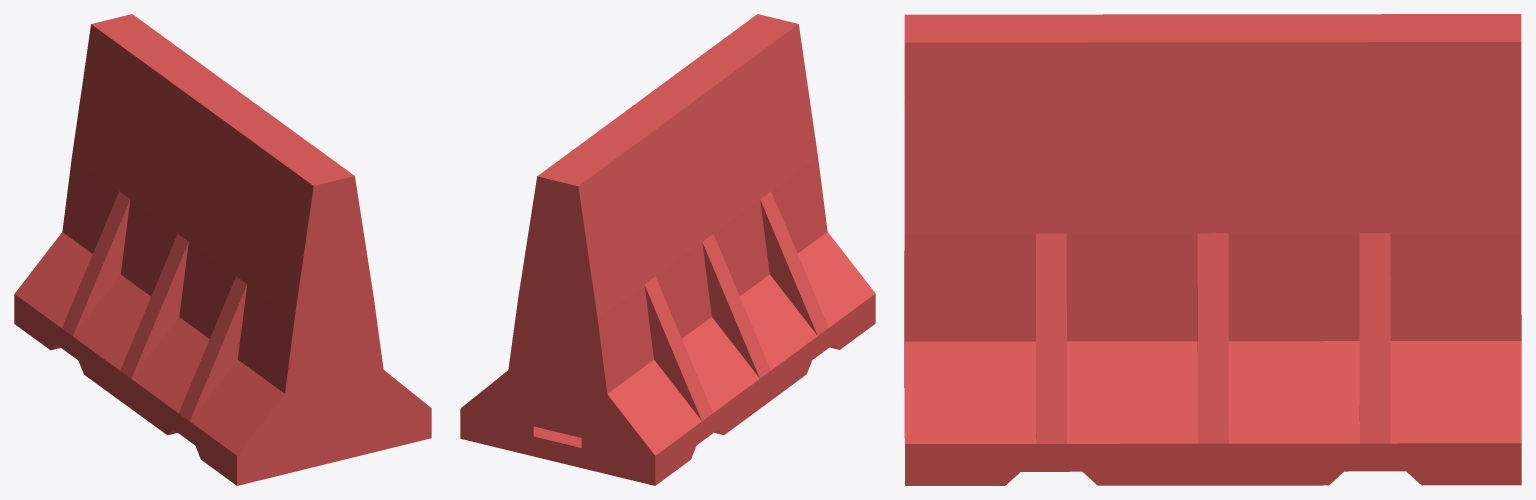
File: Barrier_1.fbx
3 renders of one model, left to right at view 1: azimuth 30°, elevation 25°; view 2: azimuth 150°, elevation 25°; view 3: azimuth 270°, elevation 25°, orthographic. The views are drawn at different scales.
Visible parts, largest first — view 1: barrier_1; view 2: barrier_1; view 3: barrier_1.
Boxes of the visible parts, bbox=[...] form: barrier_1: bbox=[14, 14, 431, 485]; barrier_1: bbox=[460, 14, 875, 485]; barrier_1: bbox=[904, 14, 1521, 485].
Bounding box in the file's own units: 7 × 9.6 × 13.74.
